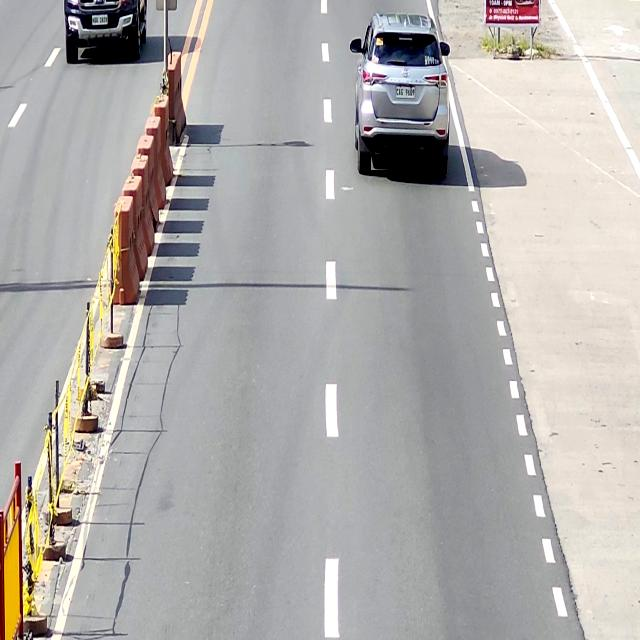Car: (349, 10, 451, 177), (63, 0, 146, 63)
License-Plate: (393, 82, 418, 101), (91, 10, 110, 26)
